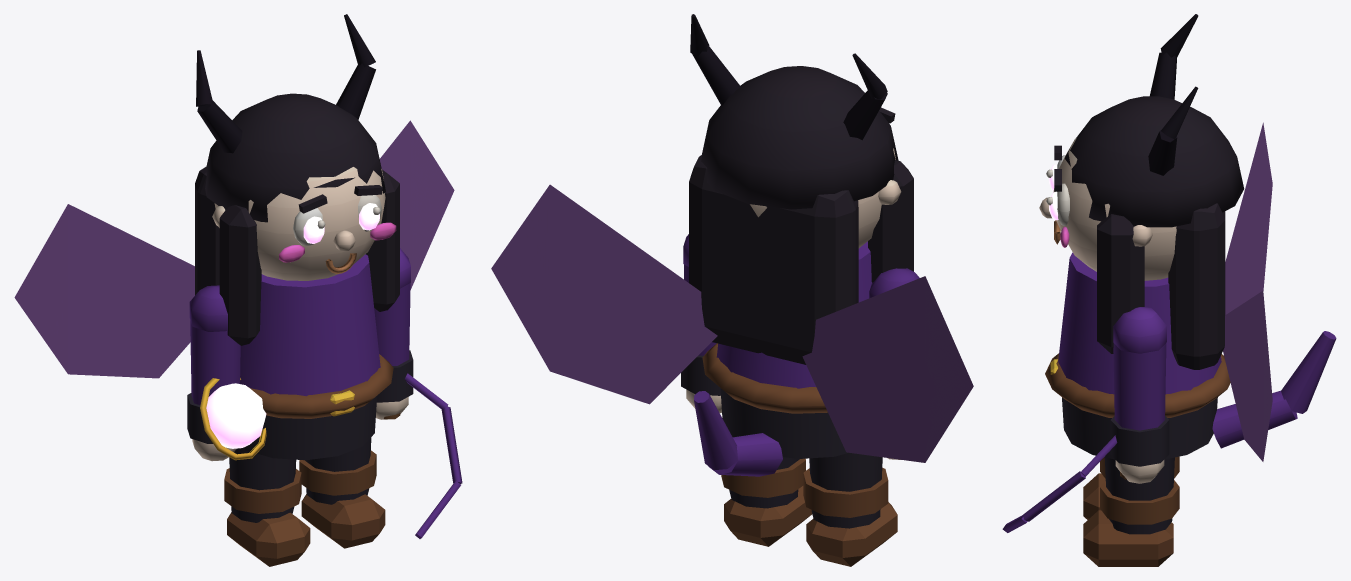
File: hero_vesper.glb
3 renders of one model, left to right at view 1: azimuth 30°, elevation 25°; view 2: azimuth 150°, elevation 25°; view 3: azimuth 270°, elevation 25°, orthographic. The views are drawn at different scales.
Parts seen in each view (by area): view 1: body_t0_palette, legl_t0_palette, legr_t0_palette, arml_t0_palette, armr_t0_palette, arml_t0_glow_pink, body_t0_glow_pink; view 2: body_t0_palette, legl_t0_palette, legr_t0_palette, armr_t0_palette, arml_t0_palette; view 3: body_t0_palette, armr_t0_palette, legr_t0_palette, legl_t0_palette.
Boxes of the visible parts, bbox=[...] form: body_t0_palette: bbox=[14, 14, 454, 460]; legl_t0_palette: bbox=[224, 447, 310, 566]; legr_t0_palette: bbox=[299, 437, 385, 548]; arml_t0_palette: bbox=[187, 285, 266, 461]; armr_t0_palette: bbox=[374, 248, 462, 538]; arml_t0_glow_pink: bbox=[206, 383, 266, 448]; body_t0_glow_pink: bbox=[303, 203, 379, 243]; body_t0_palette: bbox=[491, 14, 973, 476]; legl_t0_palette: bbox=[803, 453, 897, 566]; legr_t0_palette: bbox=[721, 457, 812, 546]; armr_t0_palette: bbox=[681, 234, 721, 413]; arml_t0_palette: bbox=[869, 268, 919, 459]; body_t0_palette: bbox=[1039, 14, 1336, 461]; armr_t0_palette: bbox=[1002, 307, 1169, 532]; legr_t0_palette: bbox=[1083, 457, 1179, 566]; legl_t0_palette: bbox=[1083, 456, 1179, 519].
Size of the model in its own units: 0.54 by 0.5711 by 0.3519.
